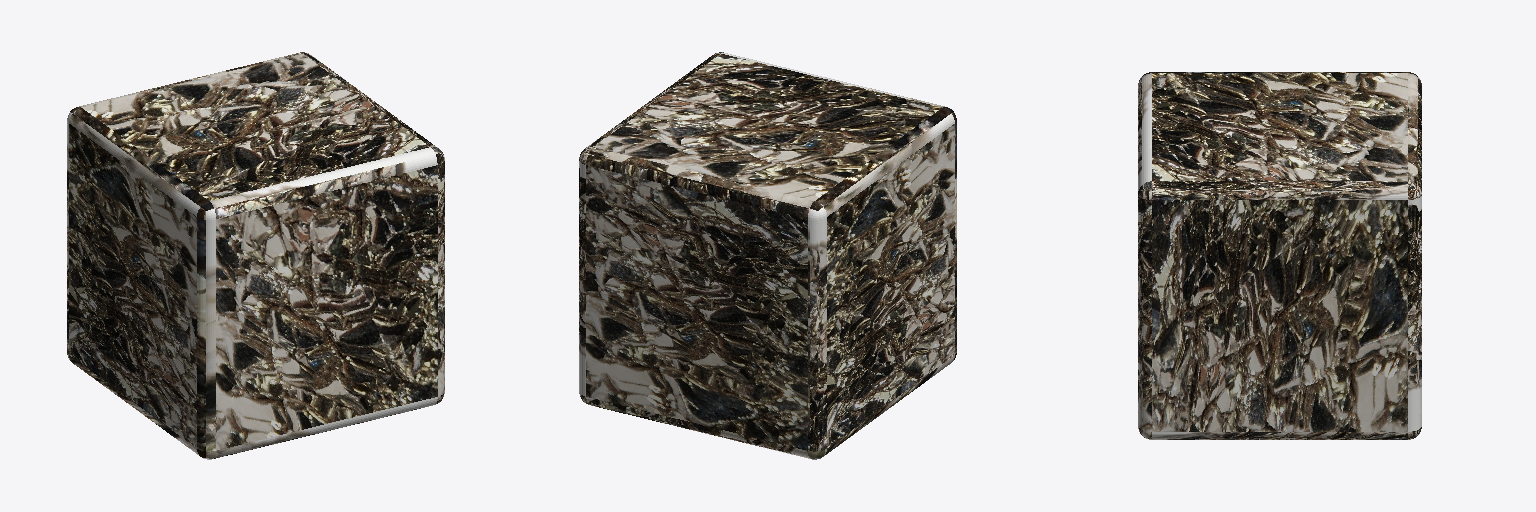
3 views of the same model, side by side, from view 1: azimuth 30°, elevation 25°; view 2: azimuth 150°, elevation 25°; view 3: azimuth 270°, elevation 25° (orthographic).
Visible parts, largest first — view 1: Cube; view 2: Cube; view 3: Cube.
Part boxes in pixels (left/top/right/bottom): Cube: left=67, top=52, right=444, bottom=459; Cube: left=579, top=52, right=956, bottom=459; Cube: left=1138, top=72, right=1421, bottom=439.
Bounding box in the file's own units: 2 × 2 × 2.
1 materials, 1 textured.